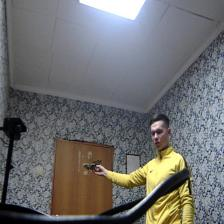drone: (82, 153, 106, 173)
